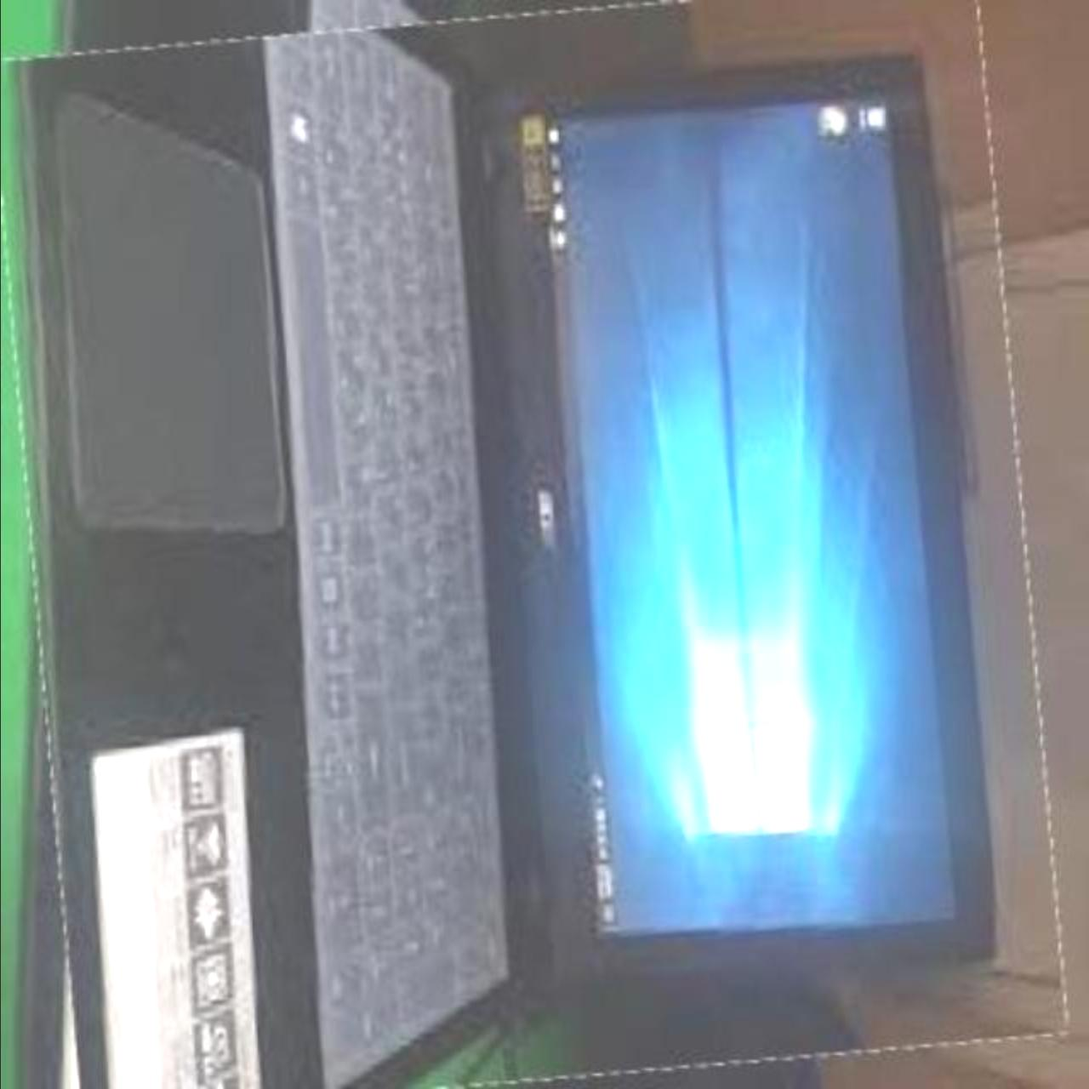laptop: (13, 0, 1046, 1089)
